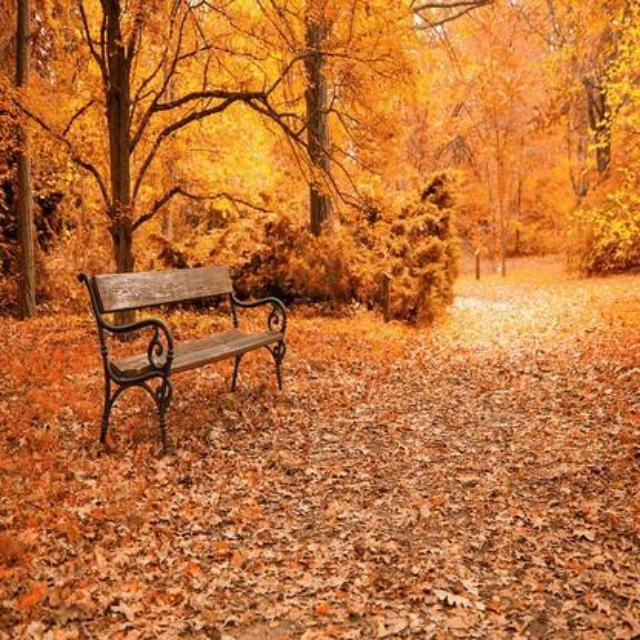obstacle: (49, 248, 308, 449)
